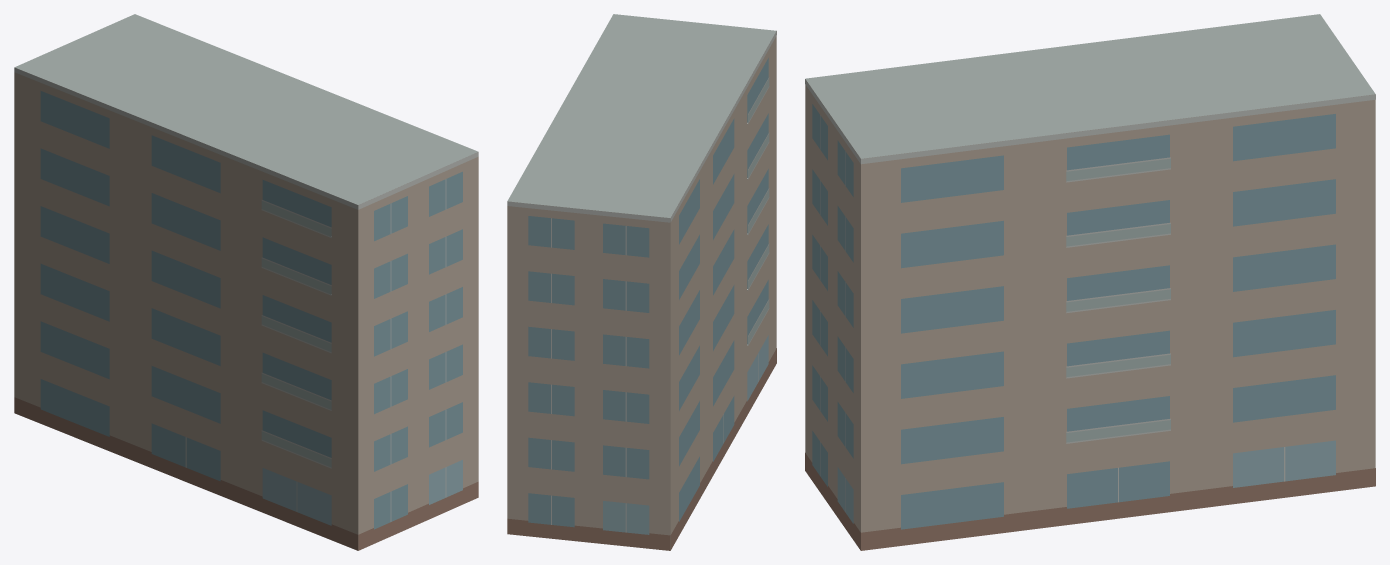
Rendered from survey-upis-32579381.glb.
3 renders of one model, left to right at view 1: azimuth 30°, elevation 25°; view 2: azimuth 150°, elevation 25°; view 3: azimuth 270°, elevation 25°, orthographic. The views are drawn at different scales.
Visible parts, largest first — view 1: survey-upis-32579381.tmp; view 2: survey-upis-32579381.tmp; view 3: survey-upis-32579381.tmp.
Boxes of the visible parts, box(x1,y1,x2,y2) form: survey-upis-32579381.tmp: box(14, 14, 478, 550); survey-upis-32579381.tmp: box(507, 14, 776, 550); survey-upis-32579381.tmp: box(805, 14, 1375, 550).
Size of the model in its own units: 13.96 by 17.6 by 23.23.
